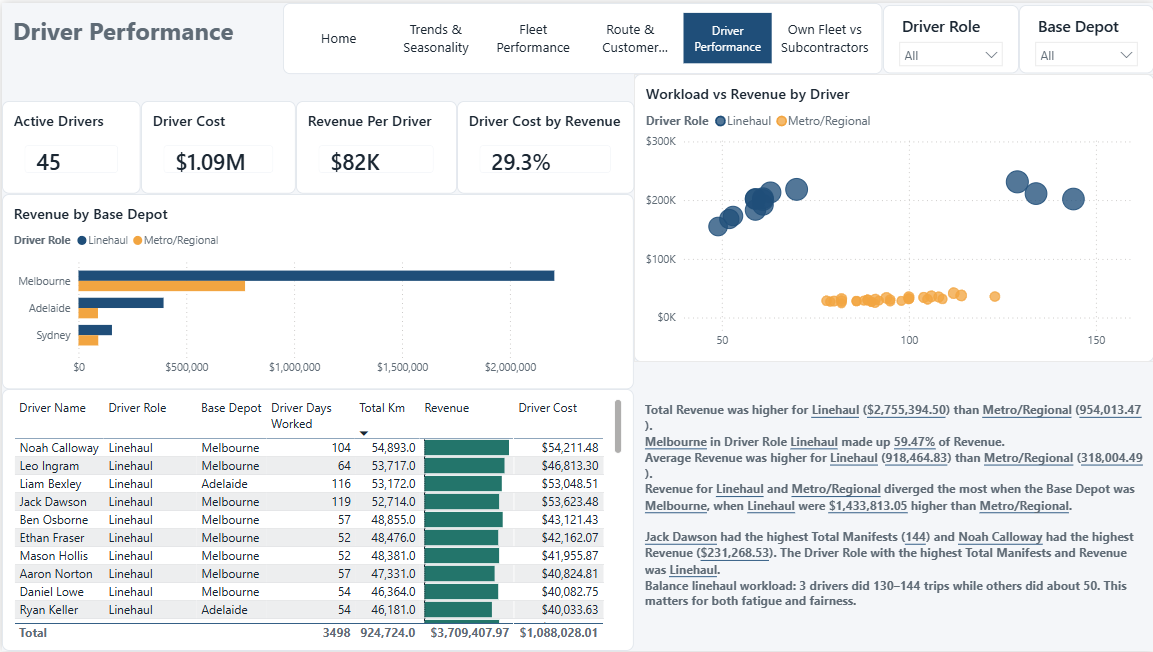

What the dashboard file says about the page in this screenshot:
{"tool":"powerbi","page":{"name":"Driver Performance ","canvas":[1280,720],"ordinal":4},"visuals":[{"type":"cardVisual","title":"Active Drivers","fields":{"Data":["_Measure.Active Drivers"]},"box":[0,108.9,154.4,103.3],"z":0},{"type":"cardVisual","title":"Revenue Per Driver","fields":{"Data":["_Measure.Revenue per Driver"]},"box":[326.7,108.9,178.9,103.3],"z":1000},{"type":"cardVisual","title":"Driver Cost","fields":{"Data":["_Measure.Driver Cost"]},"box":[154.4,108.9,172.2,103.3],"z":2000},{"type":"scatterChart","title":"Workload vs Revenue by Driver","fields":{"Category":["dim_driver.Driver Name"],"Series":["dim_driver.Driver Role"],"Size":["_Measure.Total Km"],"X":["_Measure.Total Manifests"],"Y":["_Measure.Revenue"]},"box":[702.2,78.9,577.8,320],"z":3000},{"type":"slicer","fields":{"Values":["dim_driver.Base Depot"]},"box":[1130,2.5,150,76.2],"z":4000},{"type":"slicer","fields":{"Values":["dim_driver.Driver Role"]},"box":[978.8,2.5,151.2,76.2],"z":5000},{"type":"textbox","box":[0,2.1,602.4,73],"z":6000},{"type":"cardVisual","title":"Driver Cost by Revenue","fields":{"Data":["_Measure.Driver Cost % of Revenue"]},"box":[505.6,108.9,196.7,103.3],"z":7000},{"type":"clusteredBarChart","title":"Revenue by Base Depot ","fields":{"Category":["dim_driver.Base Depot"],"Series":["dim_driver.Driver Role"],"Y":["_Measure.Revenue"]},"box":[0,212.2,702.2,216.7],"z":8000},{"type":"textbox","box":[702.2,398.9,577.8,321.1],"z":9000},{"type":"tableEx","fields":{"Values":["dim_driver.Driver Name","dim_driver.Driver Role","dim_driver.Base Depot","_Measure.Driver Days Worked","_Measure.Total Km","_Measure.Revenue","_Measure.Driver Cost"]},"box":[0,428.9,702.2,291.1],"z":10000},{"type":"textbox","box":[702.5,398.8,577.5,321.2],"z":10001},{"type":"pageNavigator","box":[312.5,0,666.2,78.8],"z":10002}]}

Visuals, with their boxes in screenshot pixels (x1, y1, x2, y2), scaled from the page's 1280x720 canvas onto the 1153x652 screenshot:
"Active Drivers" cardVisual: <bbox>0, 99, 139, 192</bbox>
"Revenue Per Driver" cardVisual: <bbox>294, 99, 455, 192</bbox>
"Driver Cost" cardVisual: <bbox>139, 99, 294, 192</bbox>
"Workload vs Revenue by Driver" scatterChart: <bbox>633, 71, 1152, 361</bbox>
slicer - dim_driver.Base Depot: <bbox>1018, 2, 1152, 71</bbox>
slicer - dim_driver.Driver Role: <bbox>882, 2, 1018, 71</bbox>
textbox: <bbox>0, 2, 543, 68</bbox>
"Driver Cost by Revenue" cardVisual: <bbox>455, 99, 633, 192</bbox>
"Revenue by Base Depot " clusteredBarChart: <bbox>0, 192, 633, 388</bbox>
textbox: <bbox>633, 361, 1152, 651</bbox>
tableEx - dim_driver.Driver Name x dim_driver.Driver Role: <bbox>0, 388, 633, 651</bbox>
textbox: <bbox>633, 361, 1152, 651</bbox>
pageNavigator: <bbox>281, 0, 882, 71</bbox>
